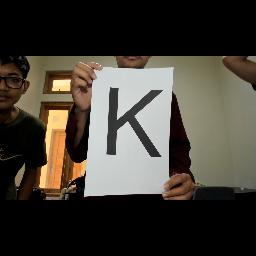k: (98, 80, 174, 168)
